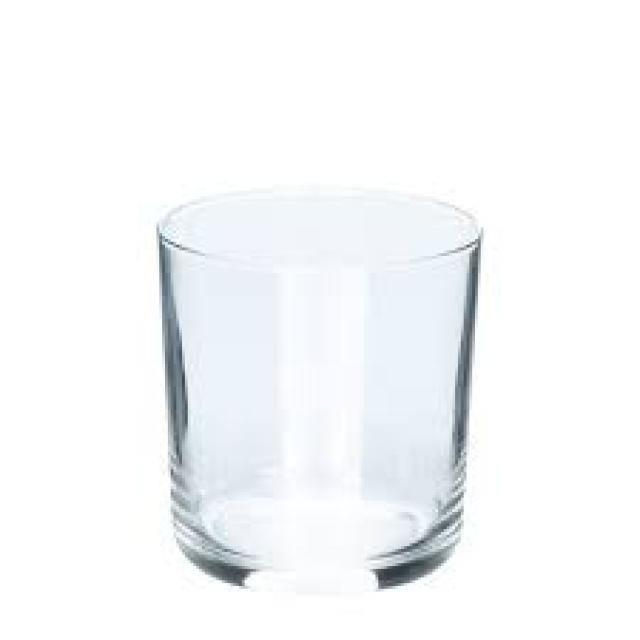glass: (153, 188, 478, 586)
